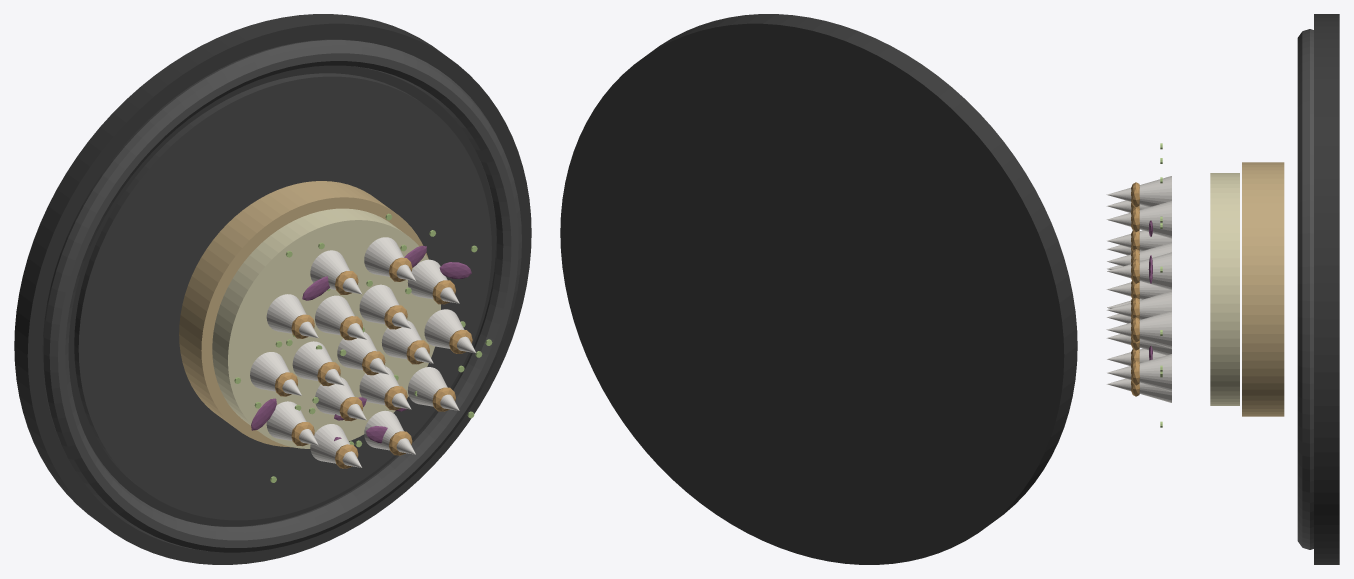
Rendered from 09_preserved_lemon_tart_meringue.glb.
The picture shows the model from 3 angles, left to right: view 1: azimuth 30°, elevation 25°; view 2: azimuth 150°, elevation 25°; view 3: azimuth 270°, elevation 25°; orthographic projection. The views are drawn at different scales.
Visible parts, largest first — view 1: plate_surface, plate_base, plate_rim, preserved_lemon_curd, shortbread_crust, italian_meringue_peak_2, italian_meringue_peak_12, italian_meringue_peak_7, italian_meringue_peak_9, italian_meringue_peak_11, italian_meringue_peak_16, italian_meringue_peak_3 (+10 smaller); view 2: plate_base; view 3: plate_base, shortbread_crust, plate_rim, preserved_lemon_curd, italian_meringue_peak_7, italian_meringue_peak_16, italian_meringue_peak_9, italian_meringue_peak_8, italian_meringue_peak_10, italian_meringue_peak_1, italian_meringue_peak_3, italian_meringue_peak_15 (+4 smaller).
Boxes of the visible parts, x1,y1,x2,y2 form: plate_surface: [74, 73, 491, 520]; plate_base: [14, 14, 531, 564]; plate_rim: [42, 39, 521, 552]; preserved_lemon_curd: [212, 208, 440, 448]; shortbread_crust: [179, 181, 428, 447]; italian_meringue_peak_2: [359, 284, 411, 328]; italian_meringue_peak_12: [250, 352, 301, 395]; italian_meringue_peak_7: [424, 309, 475, 353]; italian_meringue_peak_9: [364, 237, 415, 281]; italian_meringue_peak_11: [266, 294, 318, 337]; italian_meringue_peak_16: [408, 367, 459, 410]; italian_meringue_peak_3: [315, 295, 366, 339]; plate_base: [560, 14, 1077, 564]; plate_base: [1314, 14, 1339, 564]; shortbread_crust: [1242, 162, 1284, 416]; plate_rim: [1297, 29, 1313, 549]; preserved_lemon_curd: [1210, 173, 1239, 405]; italian_meringue_peak_7: [1106, 311, 1171, 348]; italian_meringue_peak_16: [1107, 354, 1171, 391]; italian_meringue_peak_9: [1107, 201, 1171, 238]; italian_meringue_peak_8: [1107, 252, 1171, 290]; italian_meringue_peak_10: [1106, 176, 1171, 207]; italian_meringue_peak_1: [1107, 291, 1171, 319]; italian_meringue_peak_3: [1107, 230, 1171, 250]; italian_meringue_peak_15: [1106, 378, 1171, 402].
Size of the model in its own units: 0.26 by 0.26 by 0.11.
